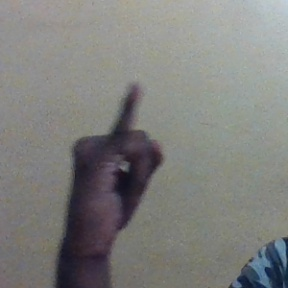I: (66, 78, 166, 247)
